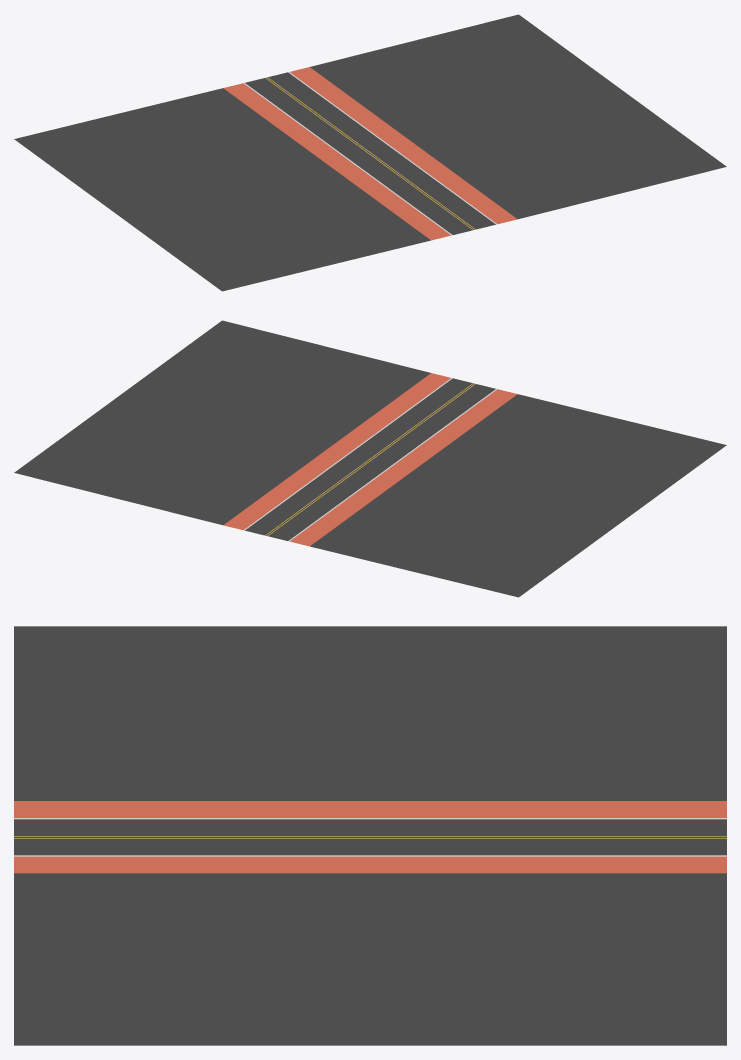
File: NewYork_Road_Straight.fbx
3 views of the same model, one above another, from view 1: azimuth 30°, elevation 25°; view 2: azimuth 150°, elevation 25°; view 3: azimuth 270°, elevation 25° (orthographic). The views are drawn at different scales.
Parts seen in each view (by area): view 1: NewYork_Road_Straight.001; view 2: NewYork_Road_Straight.001; view 3: NewYork_Road_Straight.001.
Boxes of the visible parts, left/top/right/bottom form: NewYork_Road_Straight.001: left=14, top=14, right=726, bottom=291; NewYork_Road_Straight.001: left=14, top=320, right=726, bottom=597; NewYork_Road_Straight.001: left=14, top=626, right=726, bottom=1045.
Bounding box in the file's own units: 70 × 0.2 × 50.
